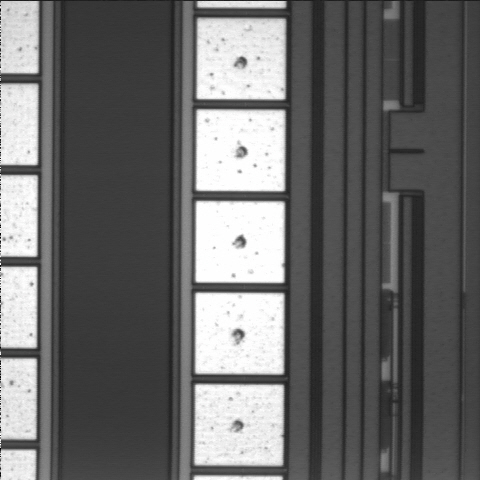pad: (195, 201, 285, 283), (194, 384, 284, 466), (196, 109, 285, 191), (197, 18, 285, 100), (195, 293, 284, 374)
